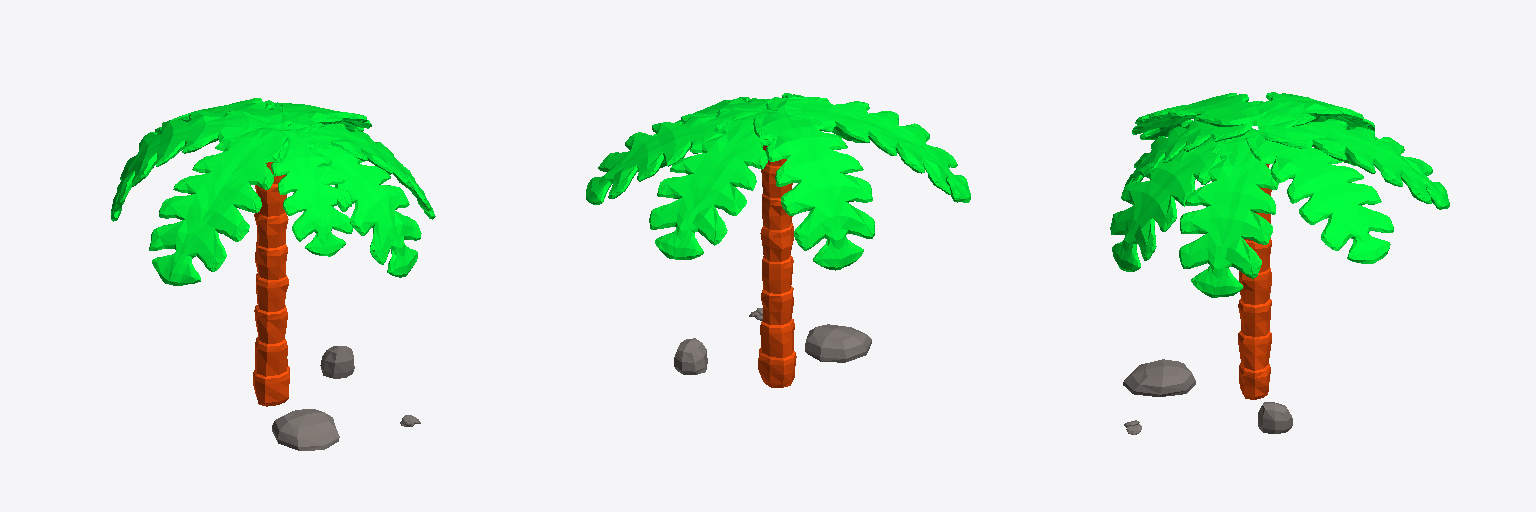
File: Rocks.obj
The picture shows the model from 3 angles: view 1: azimuth 30°, elevation 25°; view 2: azimuth 150°, elevation 25°; view 3: azimuth 270°, elevation 25°; orthographic projection.
Parts seen in each view (by area): view 1: Frond.003, Cube.005, Cube.004, Cube; view 2: Frond.003, Cube.005, Cube.004, Cube; view 3: Frond.003, Cube.005, Cube.004, Cube.
Part boxes in pixels (left/top/right/bottom): Frond.003: left=111, top=98, right=435, bottom=285; Cube.005: left=253, top=162, right=289, bottom=406; Cube.004: left=272, top=409, right=339, bottom=450; Cube: left=320, top=346, right=354, bottom=378; Frond.003: left=586, top=93, right=970, bottom=270; Cube.005: left=758, top=146, right=796, bottom=387; Cube.004: left=805, top=324, right=871, bottom=362; Cube: left=674, top=338, right=707, bottom=374; Frond.003: left=1110, top=92, right=1449, bottom=297; Cube.005: left=1238, top=164, right=1271, bottom=399; Cube.004: left=1123, top=359, right=1195, bottom=396; Cube: left=1258, top=402, right=1292, bottom=433.
Size of the model in its own units: 3.53 by 3.17 by 3.52.